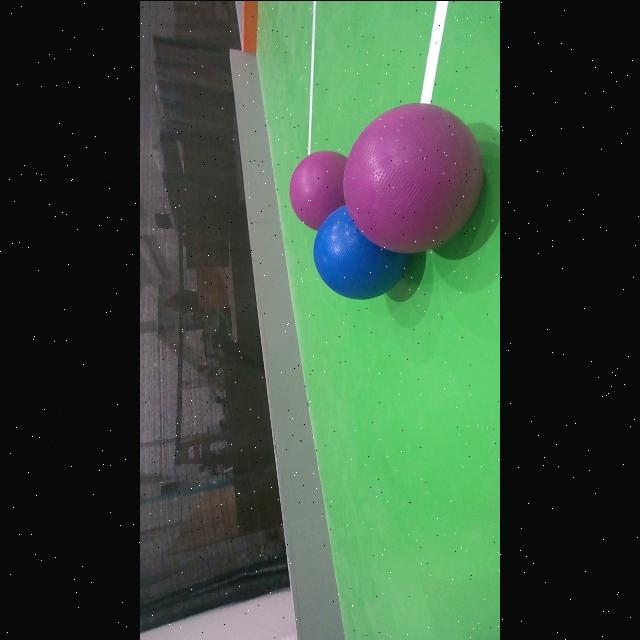B: (314, 202, 412, 298)
P: (343, 102, 483, 252), (286, 149, 356, 221)
